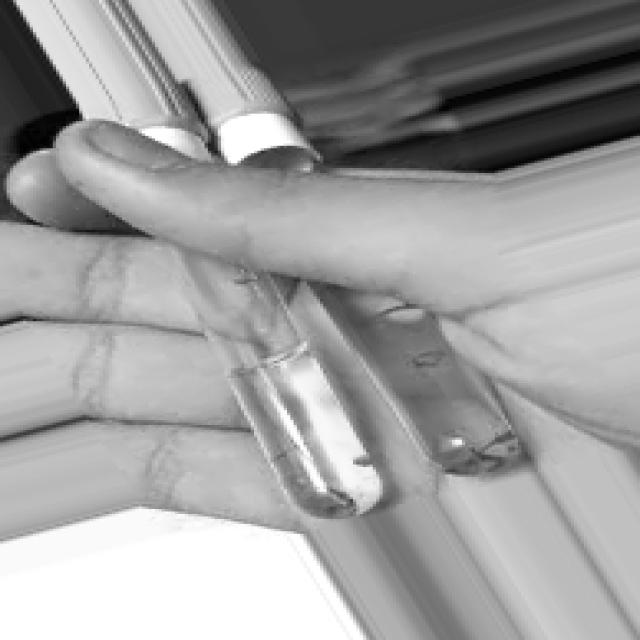larvas: (467, 453, 507, 472), (480, 432, 514, 454), (413, 349, 448, 368), (331, 486, 355, 506)
